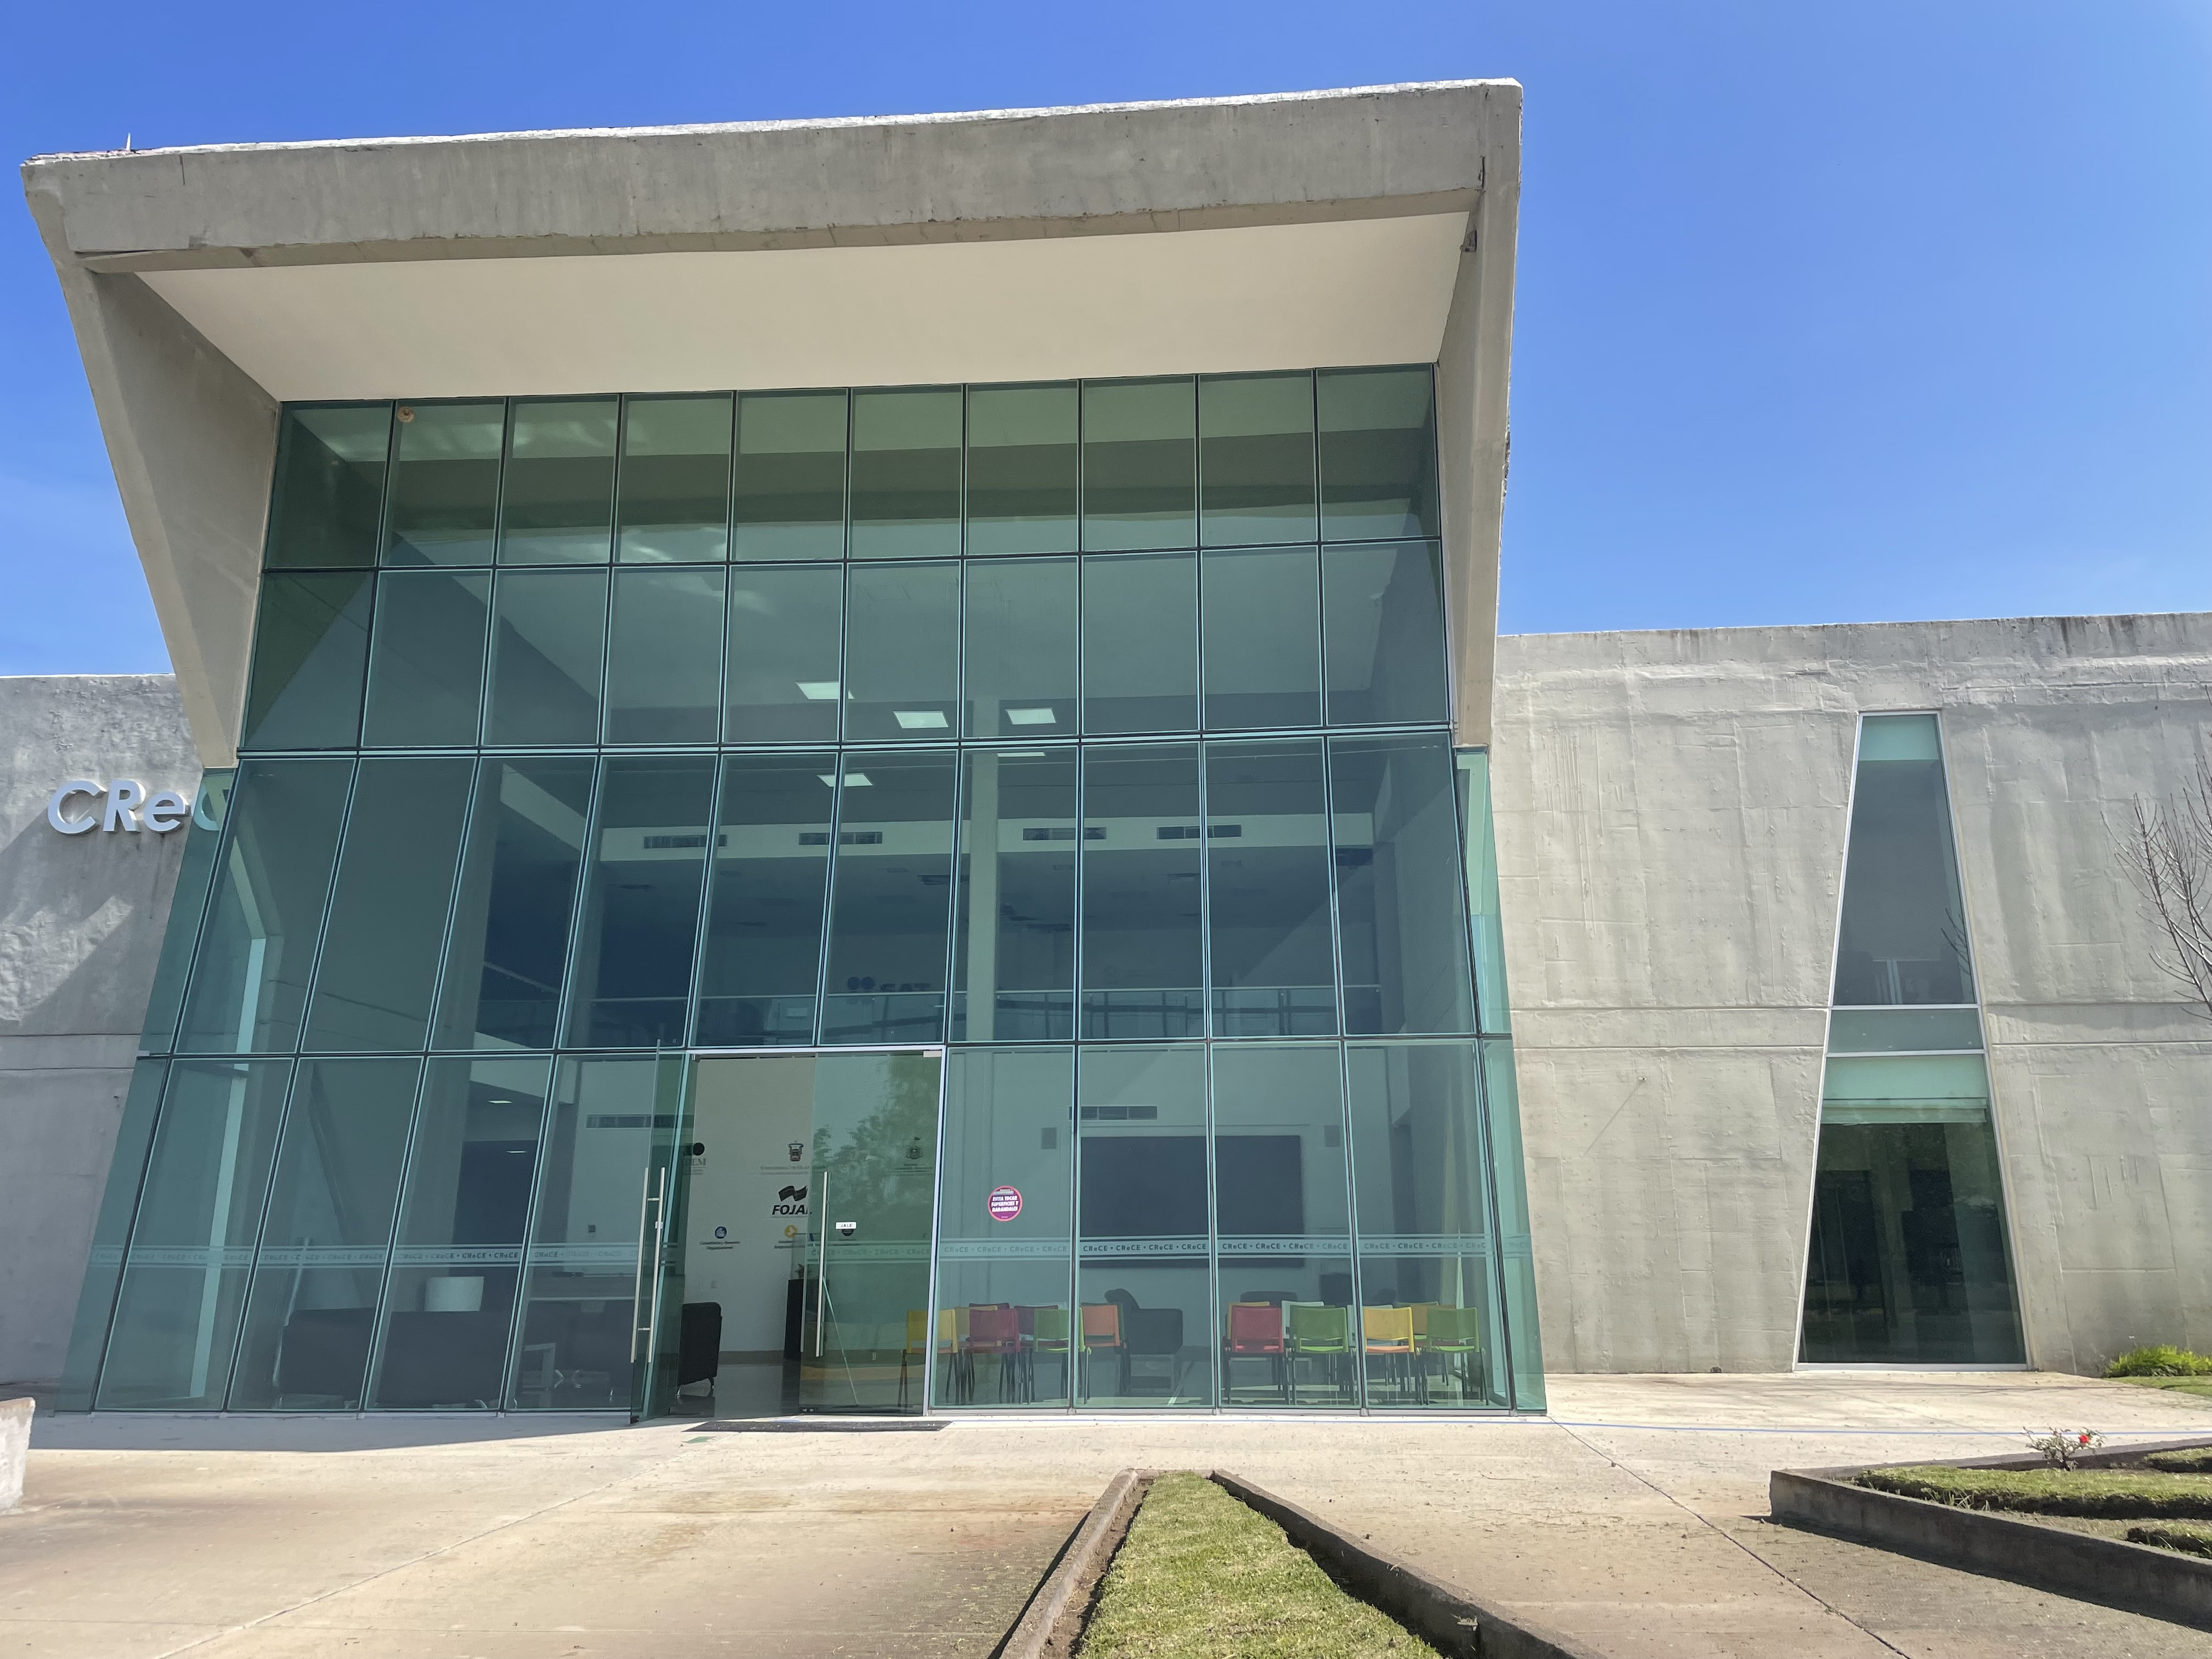crece: (0, 52, 2181, 1480)
